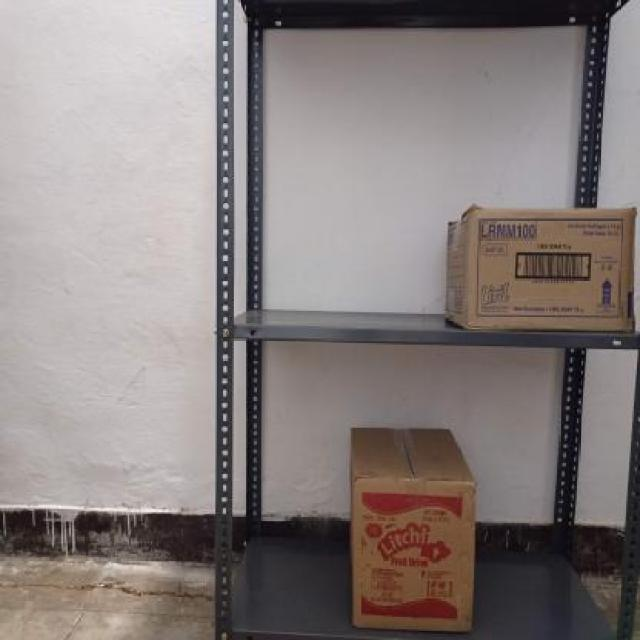box: (460, 208, 638, 332), (350, 480, 478, 625)
